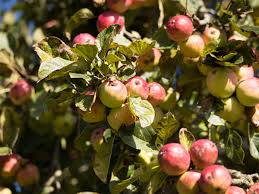apple: (157, 142, 193, 174), (206, 68, 240, 97), (187, 137, 218, 167), (198, 165, 231, 191), (97, 76, 126, 103), (72, 31, 99, 58), (179, 31, 205, 59), (167, 15, 193, 42), (127, 74, 149, 103), (98, 11, 125, 33), (147, 83, 170, 106)
